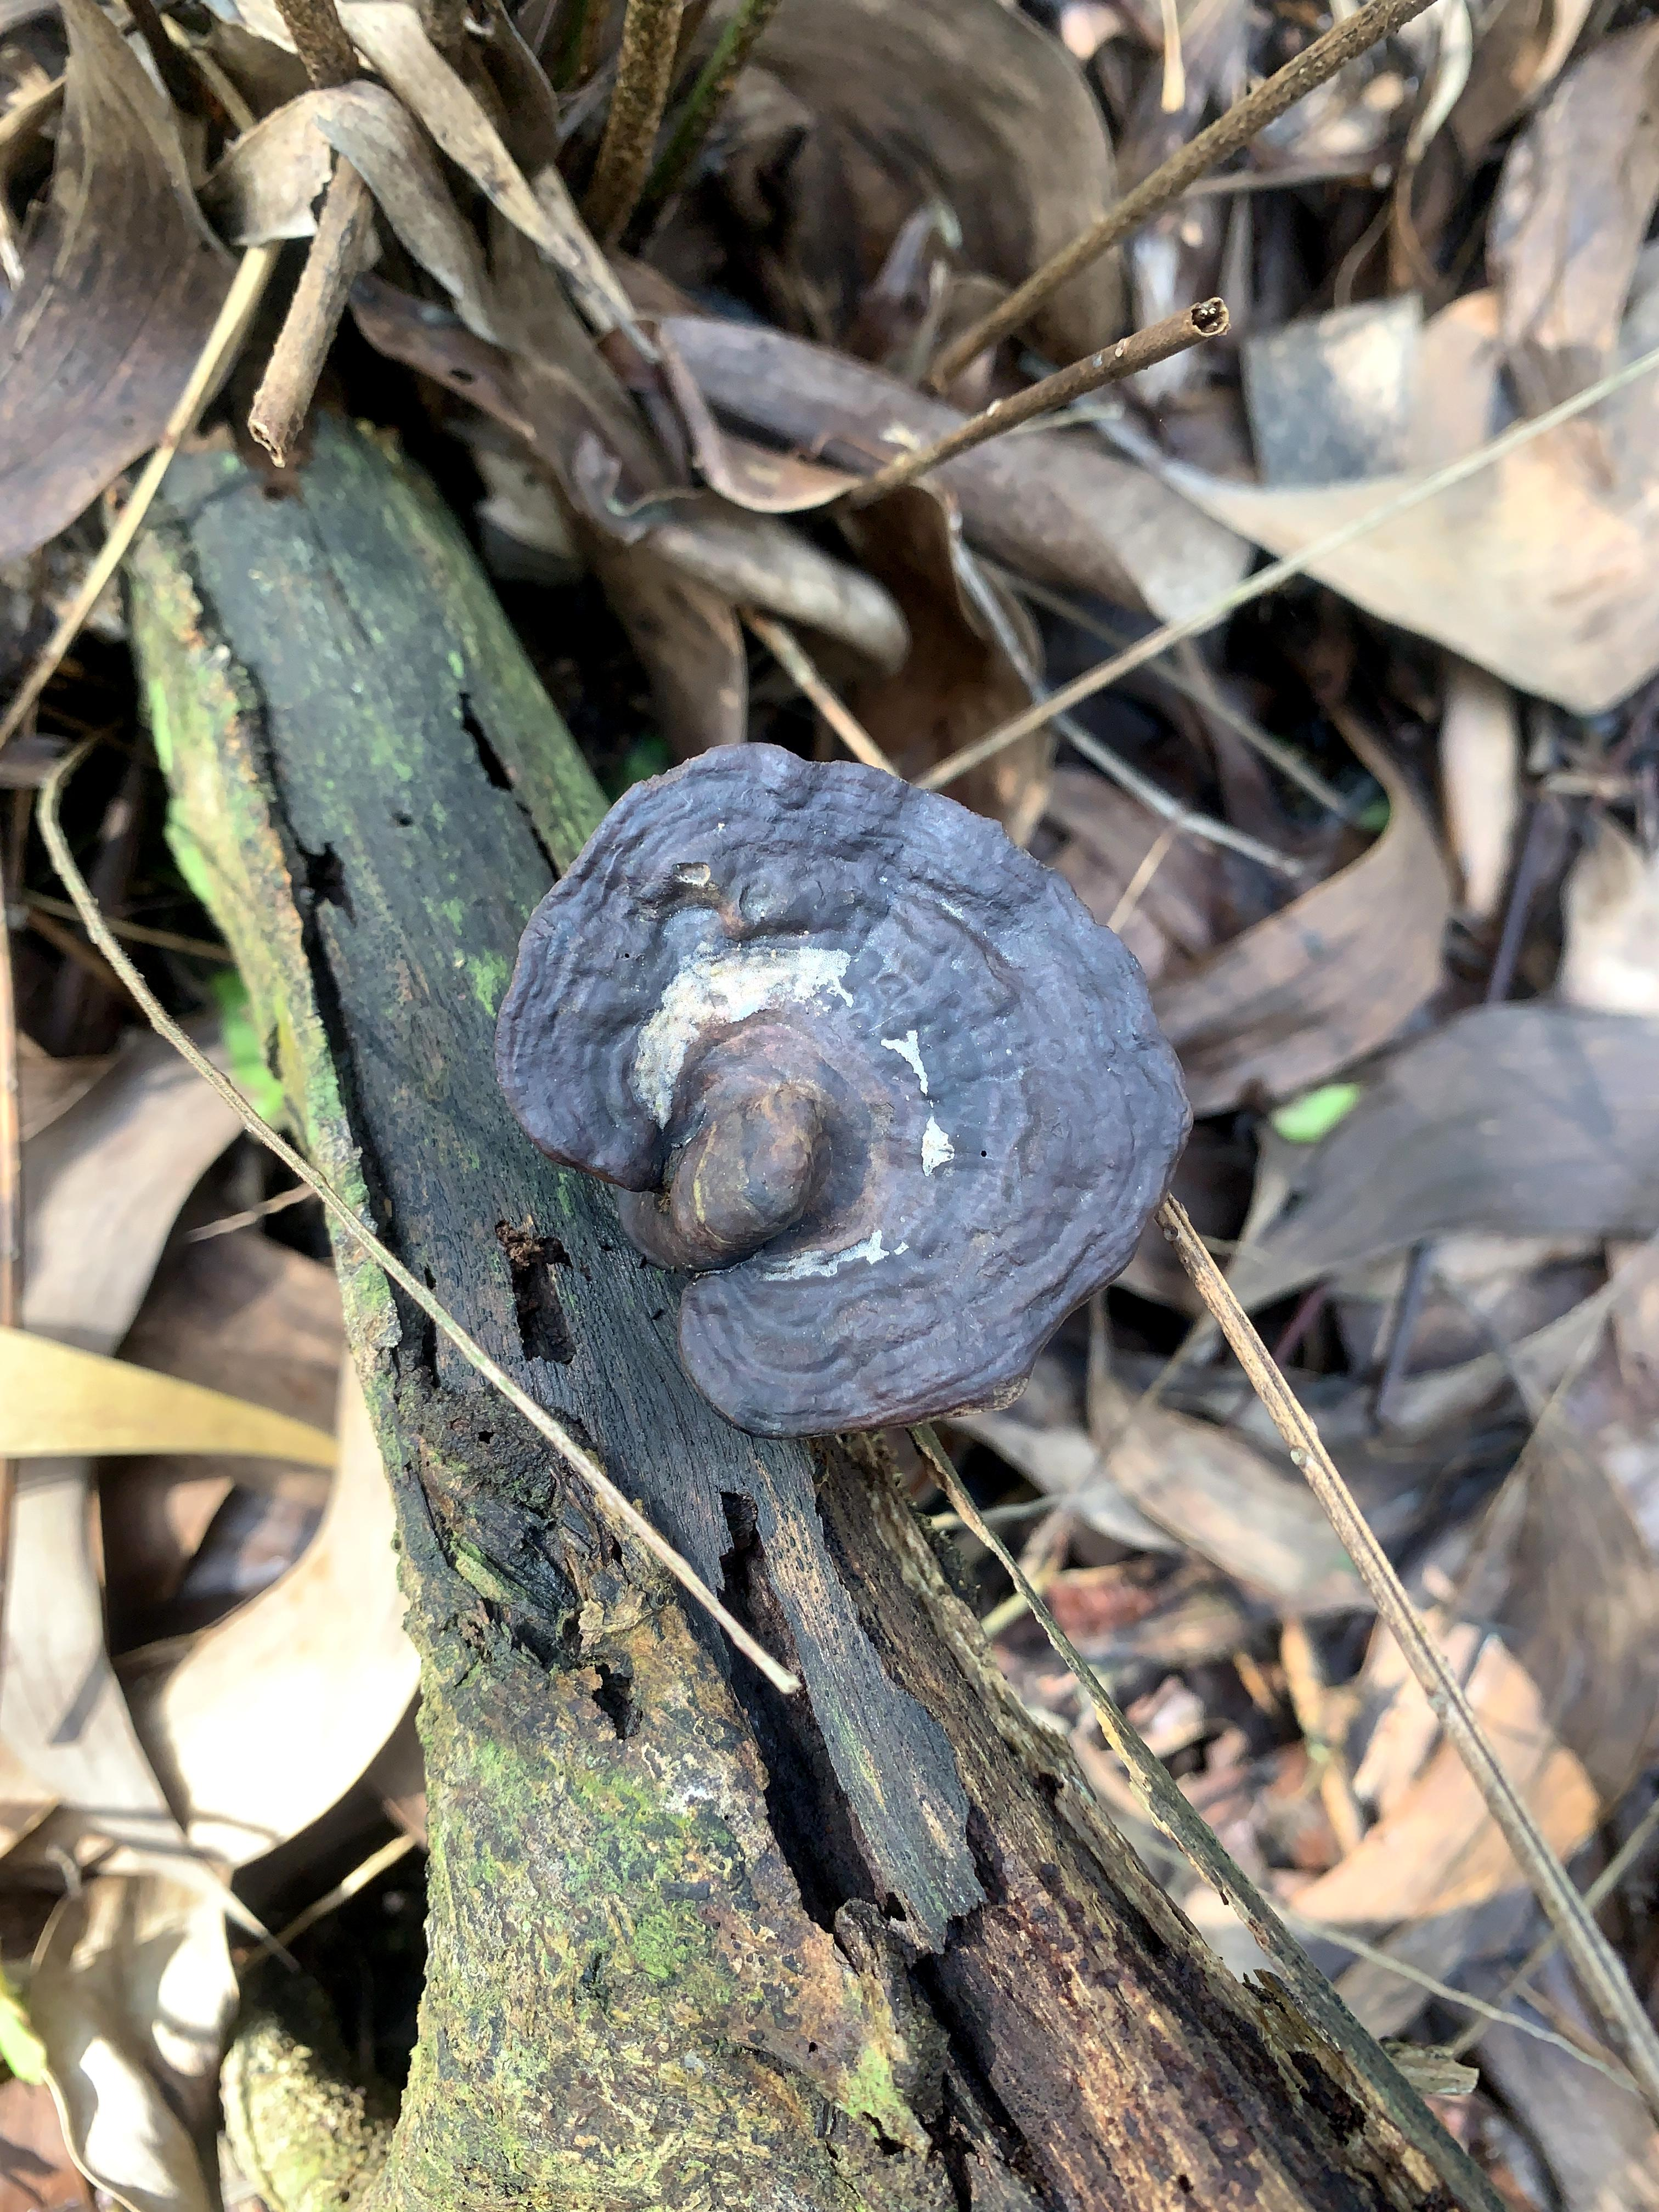Ganoderma - Fruit Body: (479, 686, 1236, 1465)
